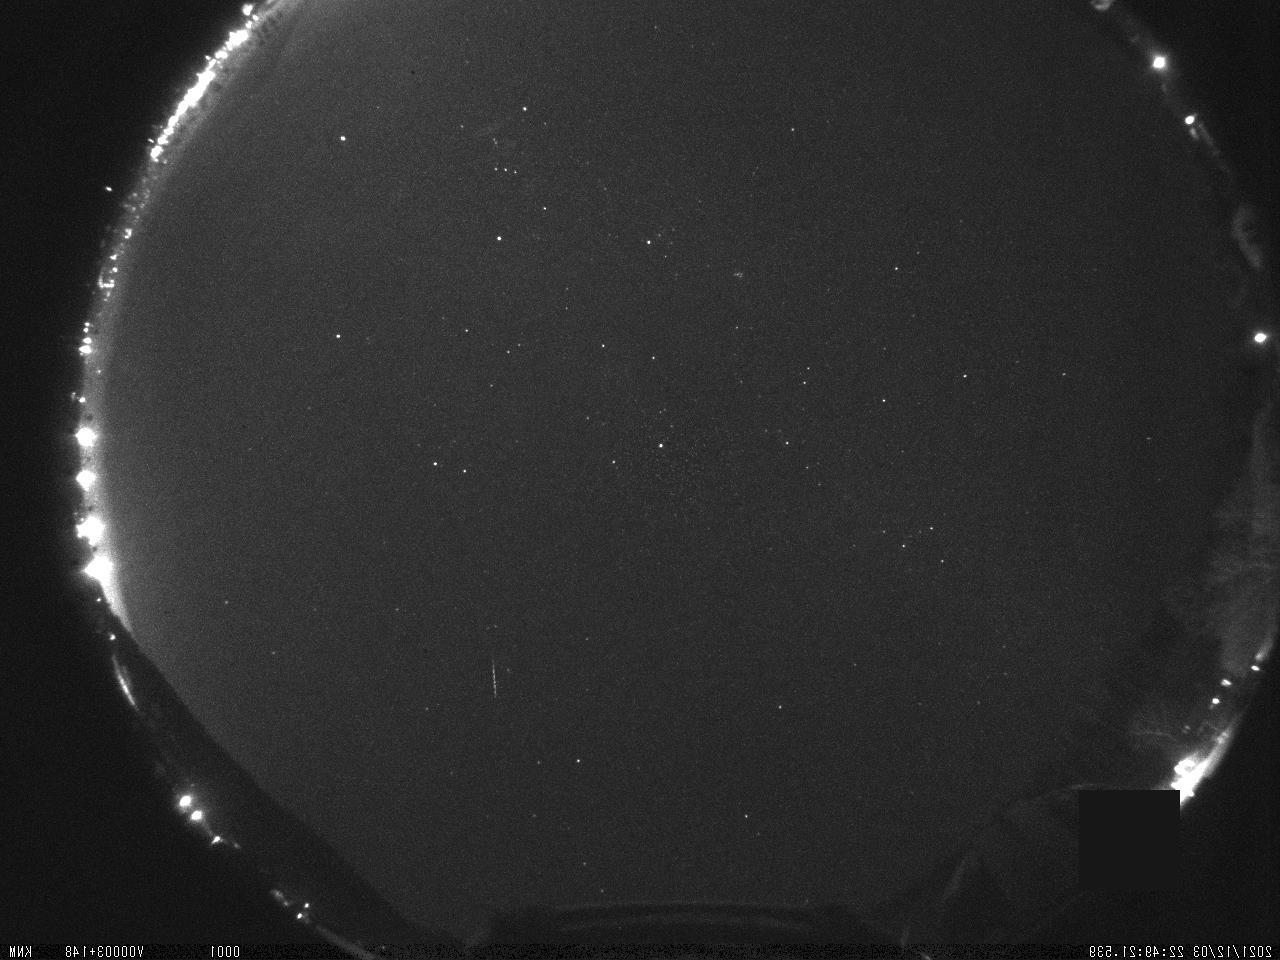meteor: (458, 647, 520, 725)
